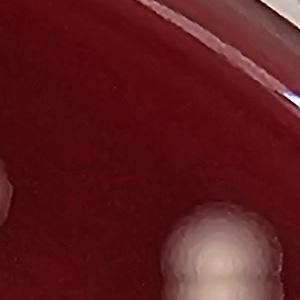colony: (150, 200, 293, 285), (152, 266, 290, 300), (0, 152, 22, 238)
